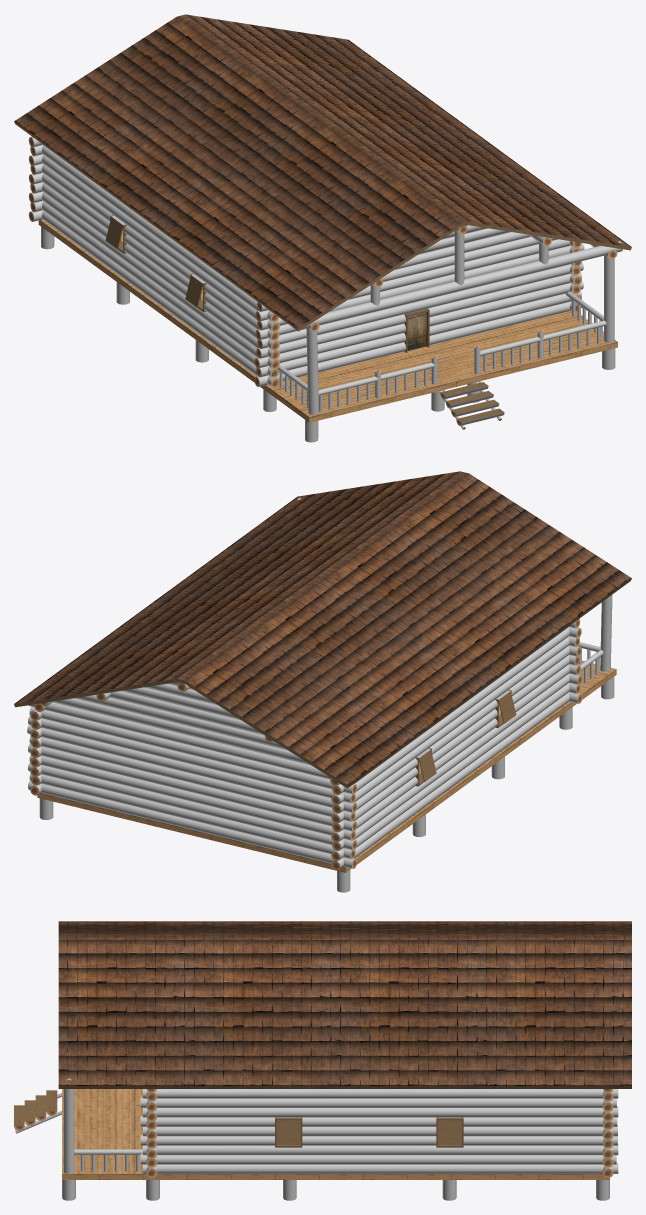
The model's file is Cabin-Log.FBX.
The picture shows the model from 3 angles, top to bottom: view 1: azimuth 30°, elevation 25°; view 2: azimuth 150°, elevation 25°; view 3: azimuth 270°, elevation 25°; orthographic projection.
Visible parts, largest first — view 1: Cylinder048; view 2: Cylinder048; view 3: Cylinder048.
Boxes of the visible parts, x1,y1,x2,y2 form: Cylinder048: [14, 14, 631, 442]; Cylinder048: [14, 471, 631, 892]; Cylinder048: [14, 921, 631, 1200].
Bounding box in the file's own units: 21.38 × 11.38 × 33.82.
